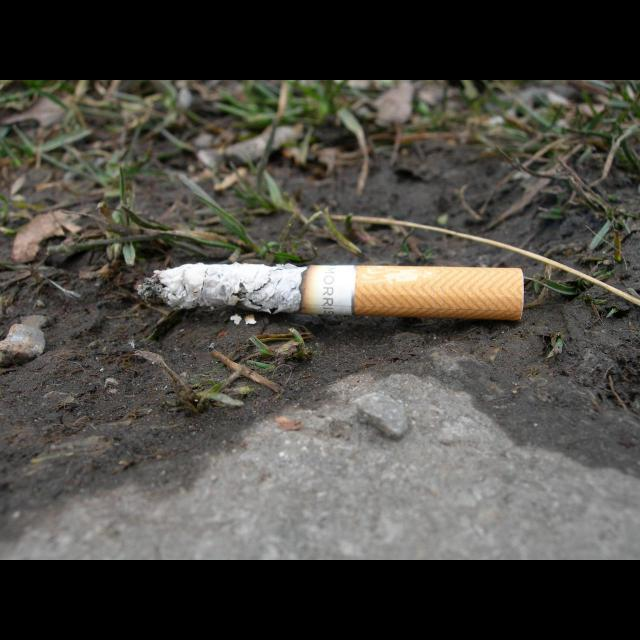cigarette: (142, 263, 523, 324)
